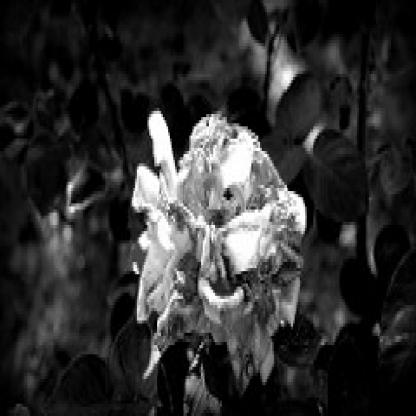Rose-Mawar: (131, 97, 304, 396)
